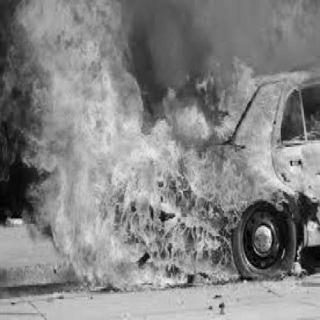Fire: (0, 0, 318, 282)
